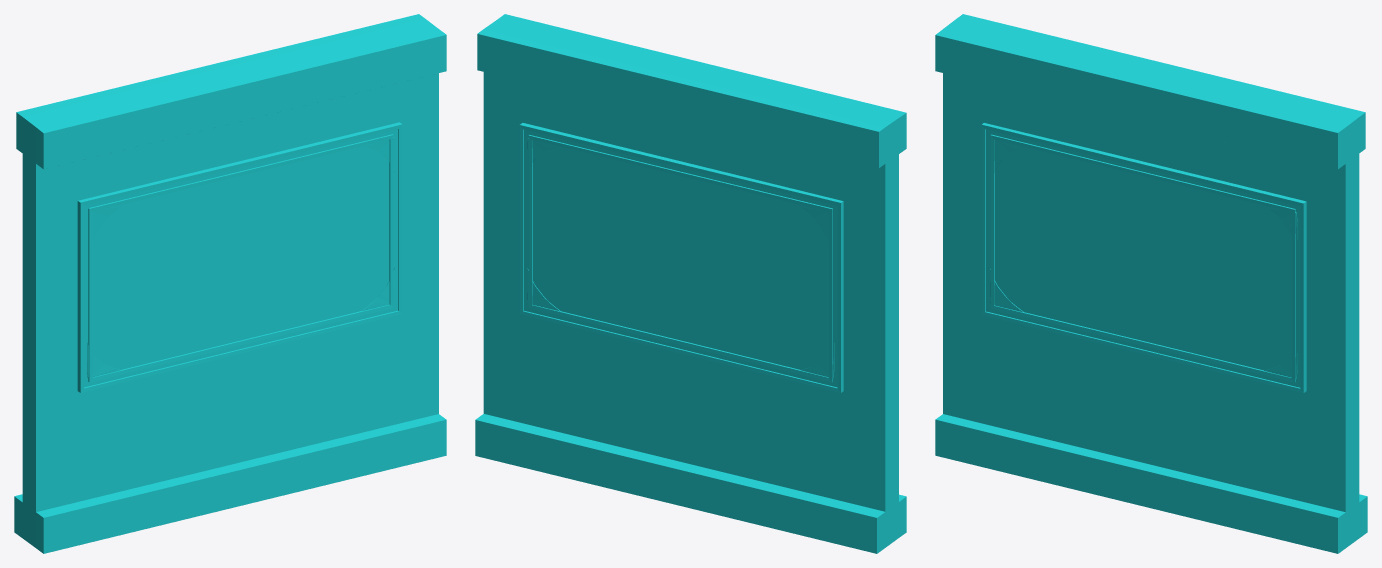
The model's file is Parede.fbx.
3 views of the same model, side by side, from view 1: azimuth 30°, elevation 25°; view 2: azimuth 150°, elevation 25°; view 3: azimuth 330°, elevation 25° (orthographic).
Parts seen in each view (by area): view 1: Parede; view 2: Parede; view 3: Parede.
Part boxes in pixels (x1=…): Parede: x1=14, y1=14, x2=446, y2=553; Parede: x1=475, y1=14, x2=906, y2=553; Parede: x1=935, y1=14, x2=1367, y2=553.
Bounding box in the file's own units: 400 × 400 × 51.22.
